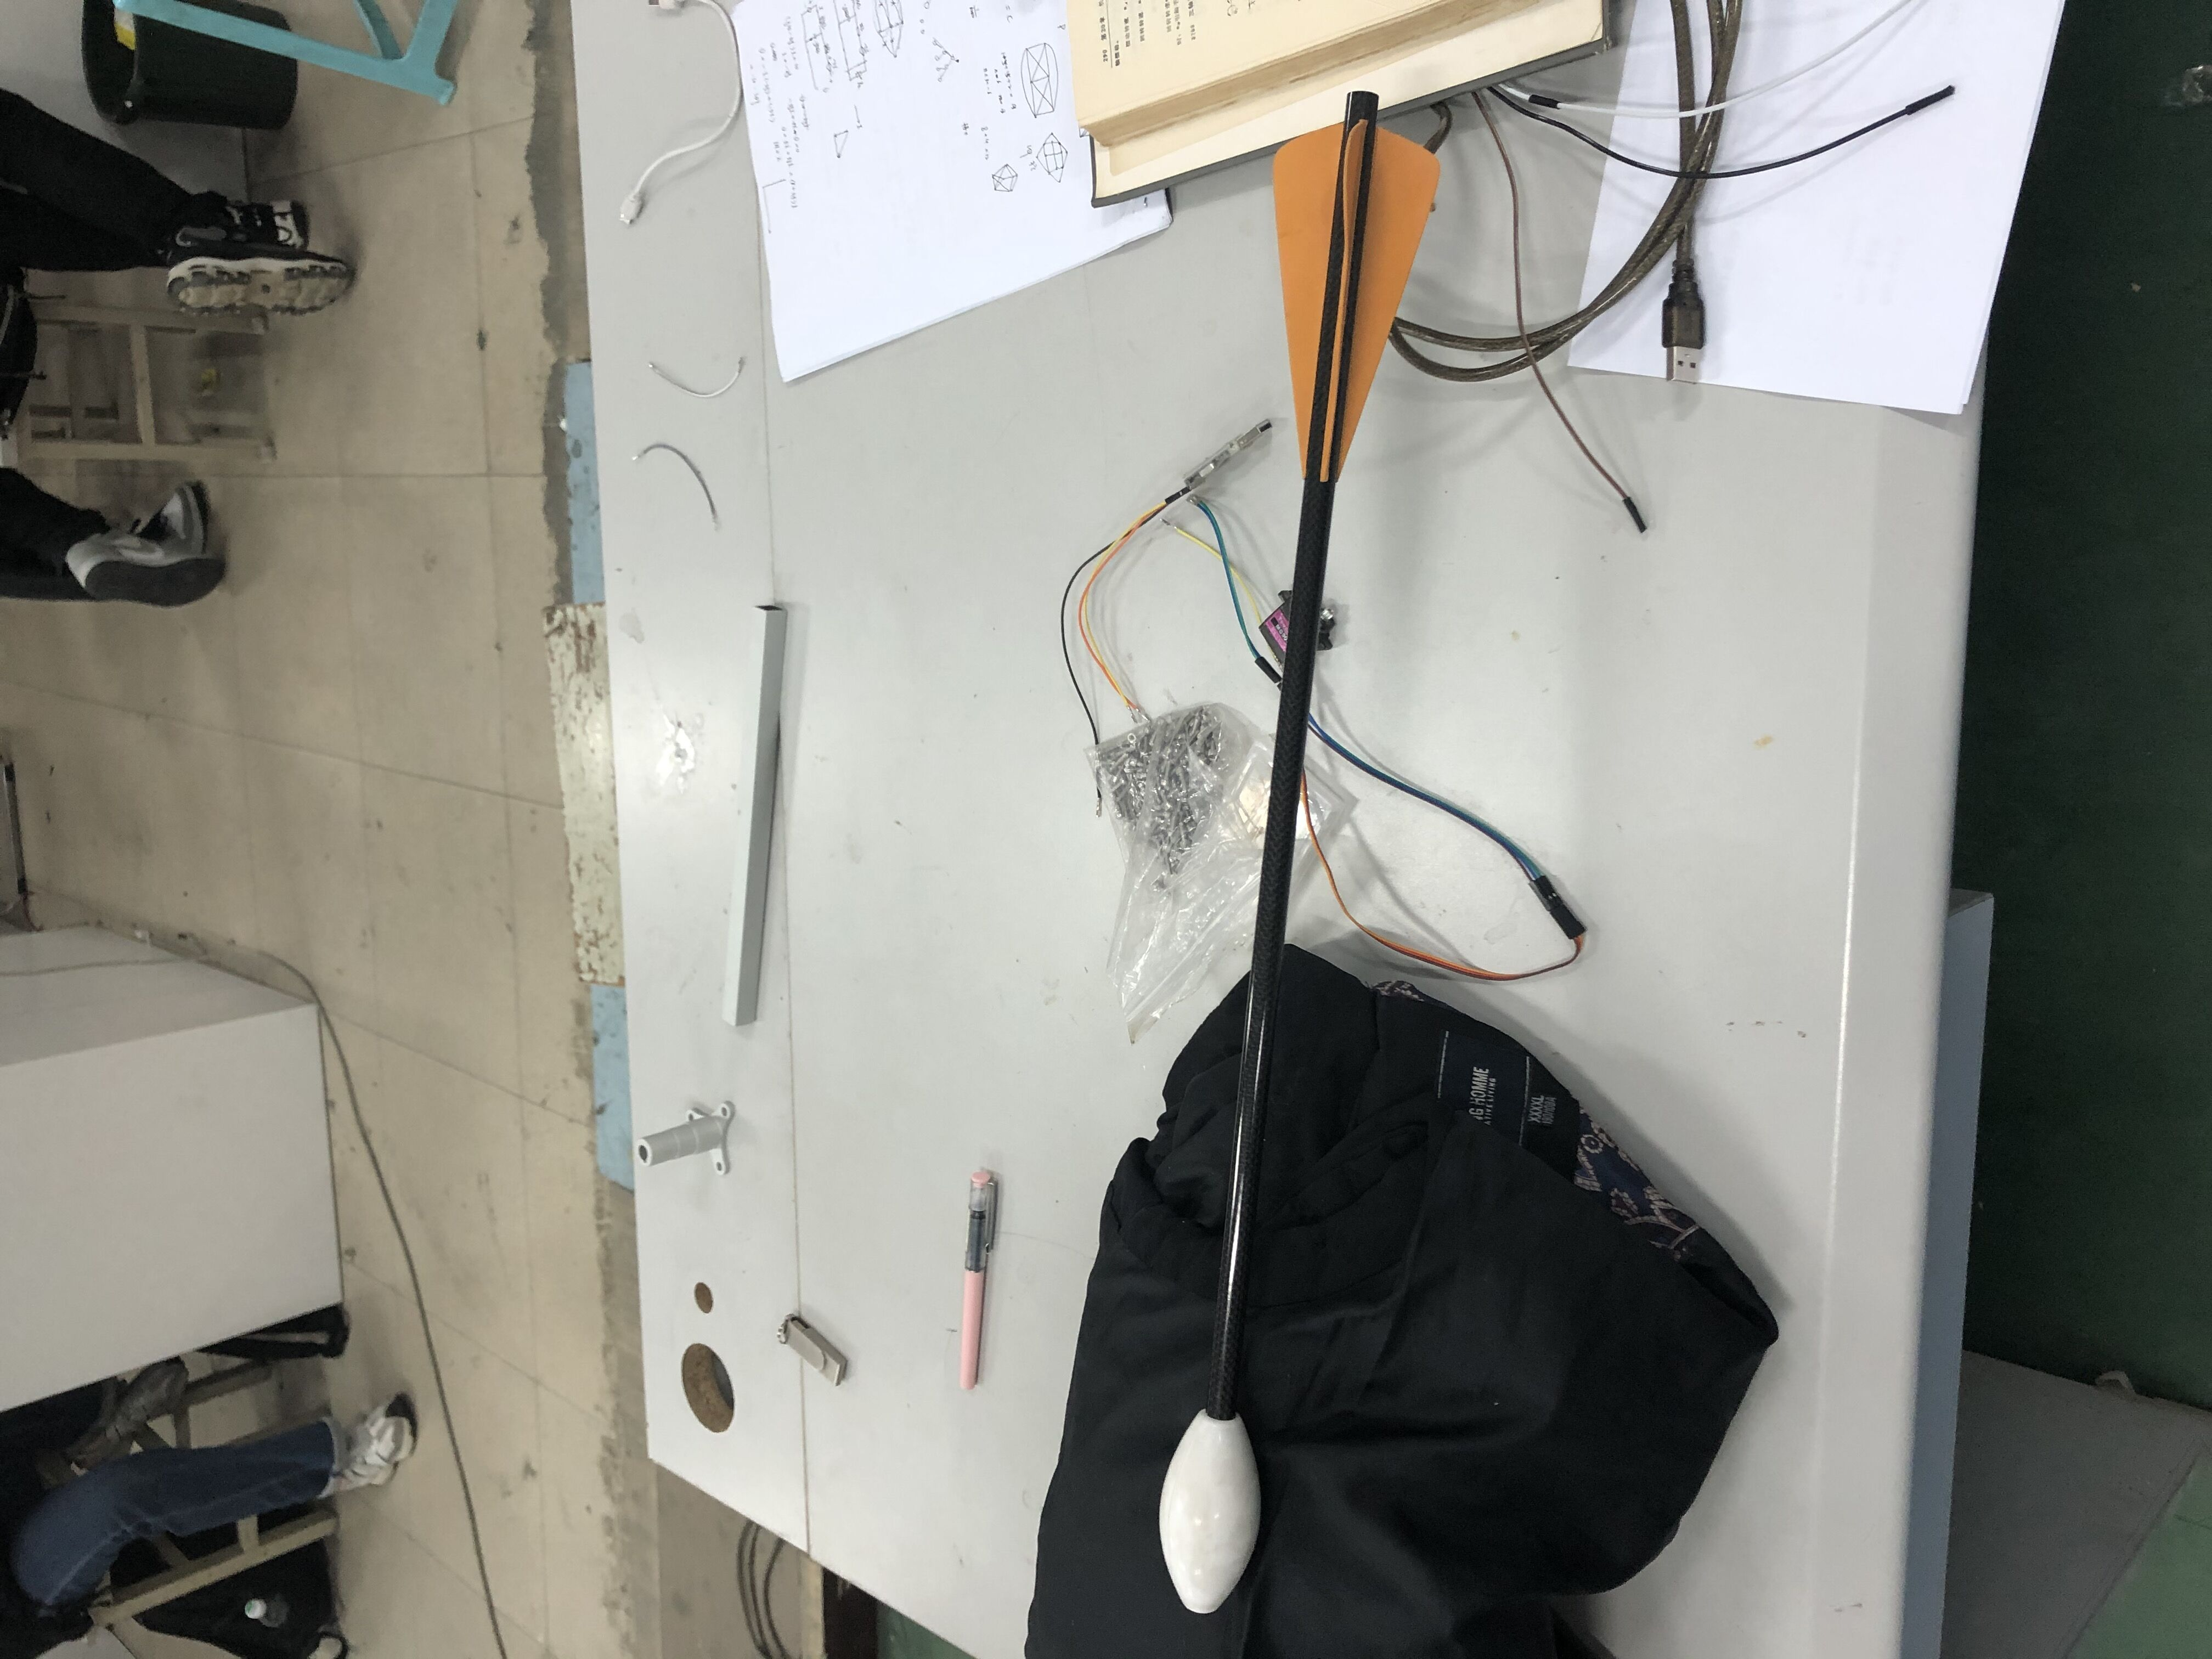arrow: (1144, 82, 1449, 1622)
arrowFront: (1151, 1401, 1263, 1619)
